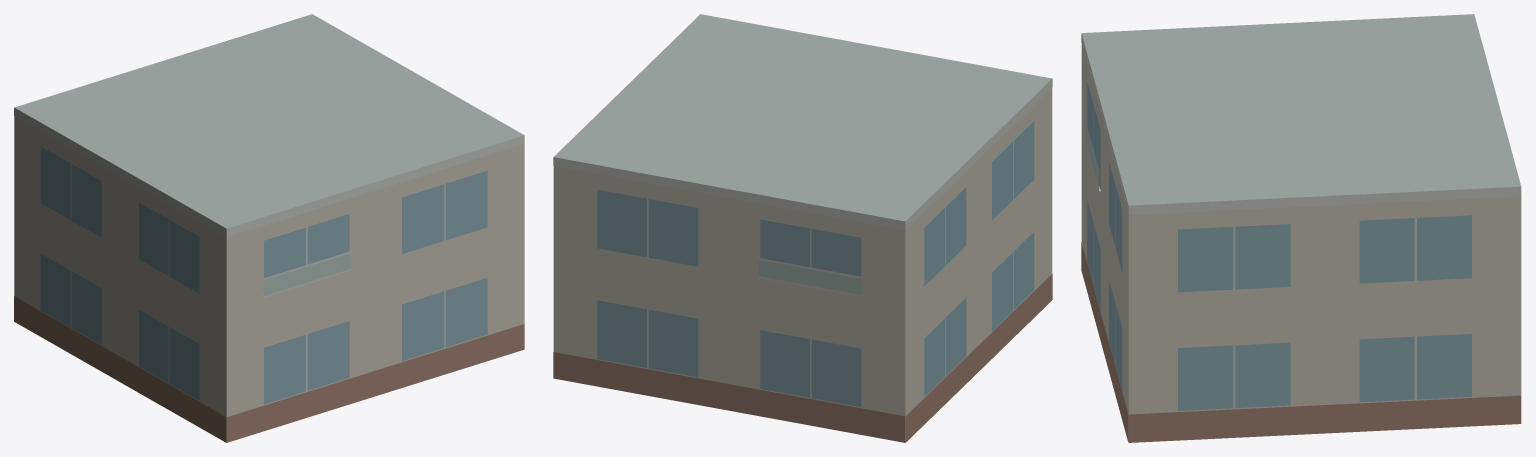
The model's file is survey-upis-32717560.glb.
3 views of the same model, side by side, from view 1: azimuth 30°, elevation 25°; view 2: azimuth 150°, elevation 25°; view 3: azimuth 270°, elevation 25° (orthographic). The views are drawn at different scales.
Parts seen in each view (by area): view 1: survey-upis-32717560.tmp; view 2: survey-upis-32717560.tmp; view 3: survey-upis-32717560.tmp.
Part boxes in pixels (x1=…): survey-upis-32717560.tmp: x1=14, y1=14, x2=524, y2=442; survey-upis-32717560.tmp: x1=553, y1=14, x2=1052, y2=442; survey-upis-32717560.tmp: x1=1081, y1=14, x2=1521, y2=442.
Bounding box in the file's own units: 10.57 × 6.1 × 10.26.
